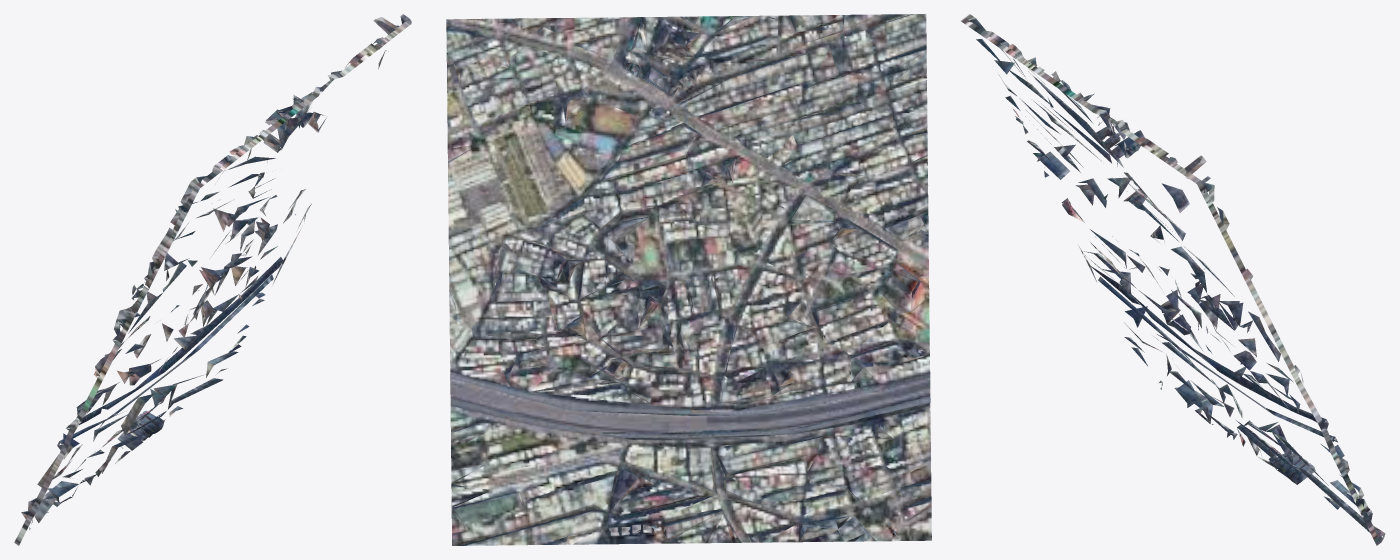
3 views of the same model, side by side, from view 1: azimuth 30°, elevation 25°; view 2: azimuth 150°, elevation 25°; view 3: azimuth 270°, elevation 25° (orthographic). The views are drawn at different scales.
Size of the model in its own units: 1228 by 1134 by 1041.
2 materials, 2 textured.
